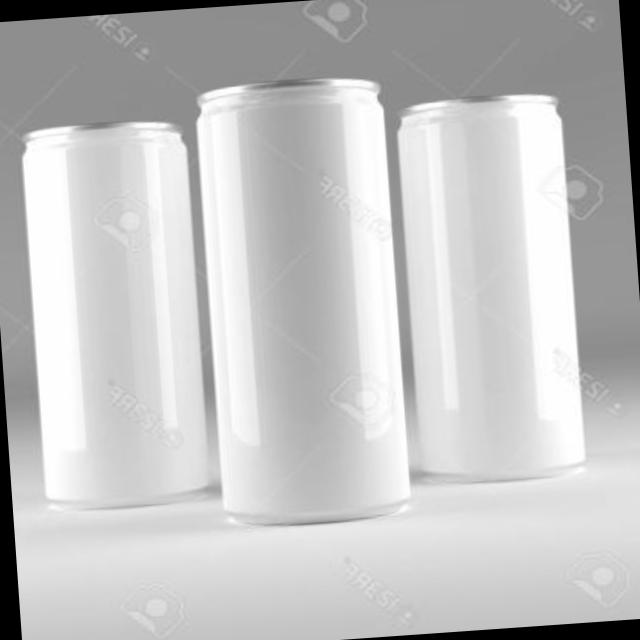metal: (200, 76, 410, 520), (401, 92, 586, 477), (26, 119, 209, 503)
